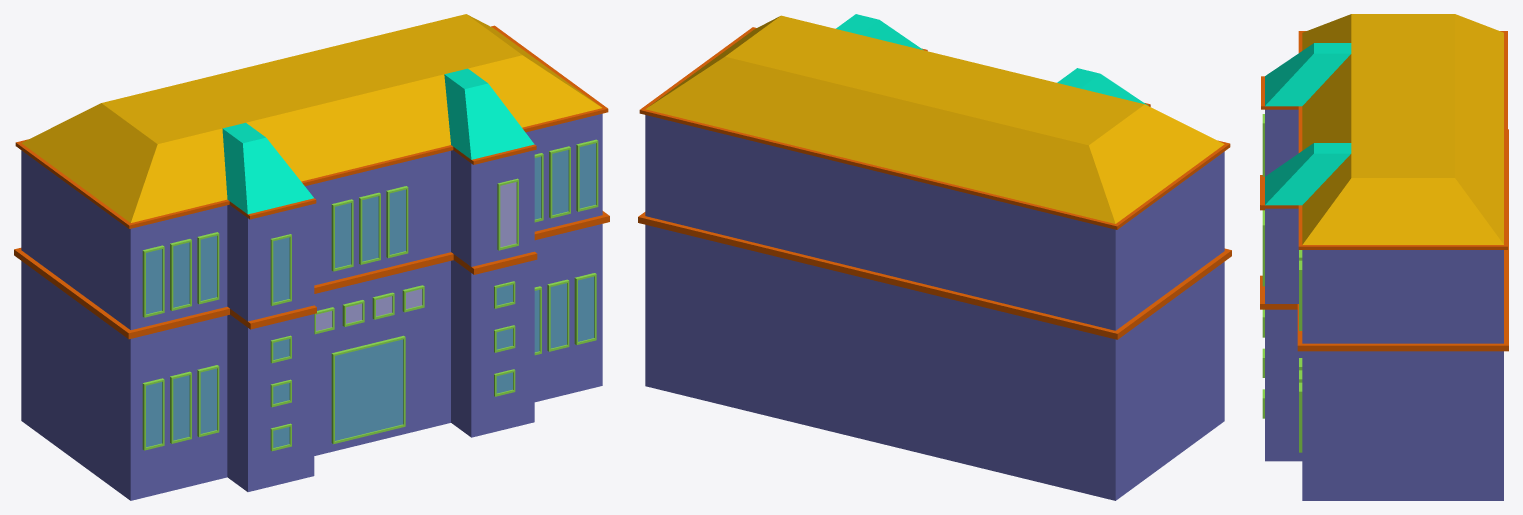
File: yellowRoof.fbx
The picture shows the model from 3 angles, left to right: view 1: azimuth 30°, elevation 25°; view 2: azimuth 150°, elevation 25°; view 3: azimuth 270°, elevation 25°; orthographic projection. The views are drawn at different scales.
Visible parts, largest first — view 1: group13; view 2: group13; view 3: group13.
Part boxes in pixels (x1,y1,x2,y2): group13: (14, 14, 609, 500); group13: (638, 14, 1231, 500); group13: (1260, 14, 1508, 500).
Bounding box in the file's own units: 906 × 583 × 441.
